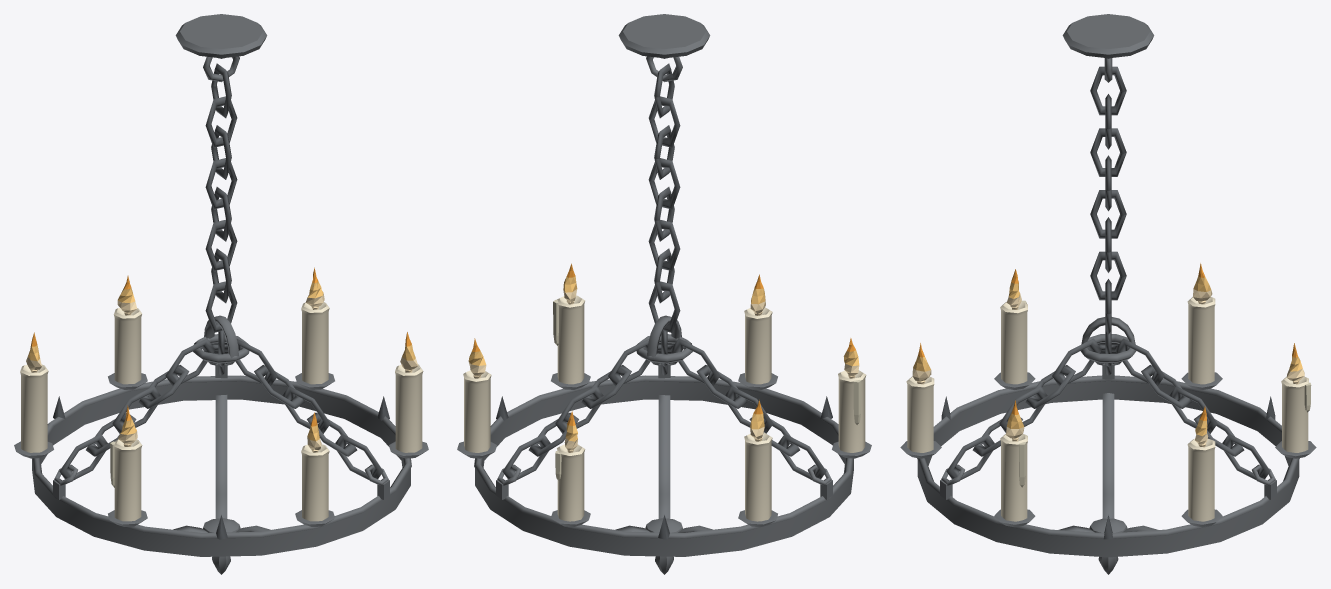
File: SM_LPD_Light_ChandelierRing_01.fbx
3 views of the same model, side by side, from view 1: azimuth 30°, elevation 25°; view 2: azimuth 150°, elevation 25°; view 3: azimuth 270°, elevation 25° (orthographic).
Parts seen in each view (by area): view 1: SM_LPD_Light_ChandelierRing_01; view 2: SM_LPD_Light_ChandelierRing_01; view 3: SM_LPD_Light_ChandelierRing_01.
Boxes of the visible parts, x1=… form: SM_LPD_Light_ChandelierRing_01: x1=14, y1=14, x2=428, y2=574; SM_LPD_Light_ChandelierRing_01: x1=457, y1=14, x2=871, y2=574; SM_LPD_Light_ChandelierRing_01: x1=900, y1=14, x2=1316, y2=574.
Size of the model in its own units: 0.9213 by 1.44 by 1.
